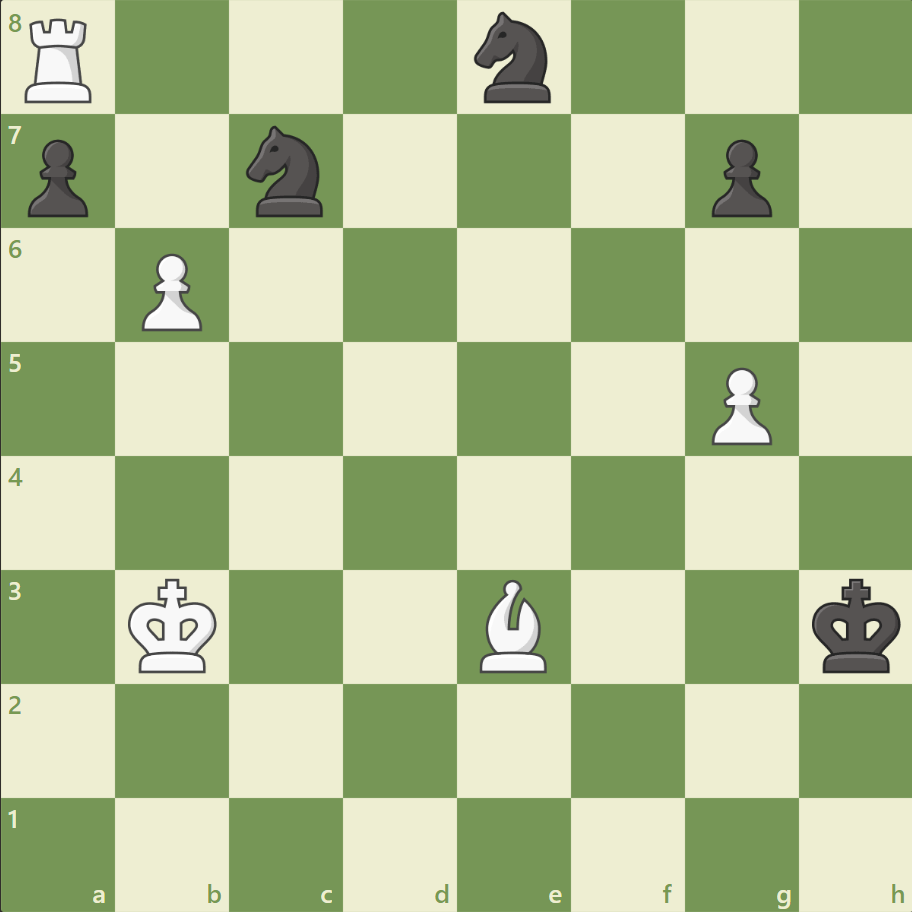B: (471, 574, 555, 676)
K: (124, 571, 224, 679)
P: (133, 246, 208, 337), (701, 359, 776, 450)
R: (19, 12, 102, 109)
k: (806, 571, 906, 679)
n: (465, 7, 562, 110), (238, 121, 335, 223)
p: (20, 132, 95, 223), (701, 132, 776, 223)
